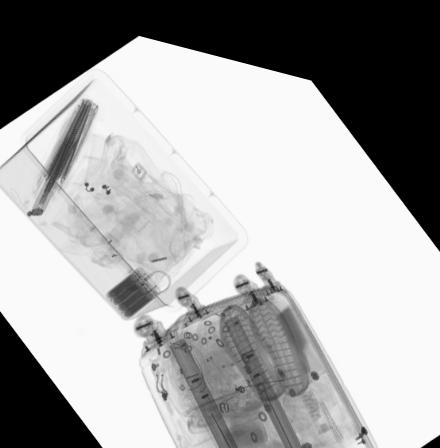Powerbank: (104, 258, 161, 313)
